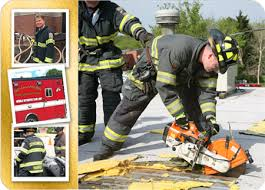emergent: (129, 24, 239, 133), (77, 1, 149, 164), (14, 129, 46, 174), (29, 12, 54, 61)
